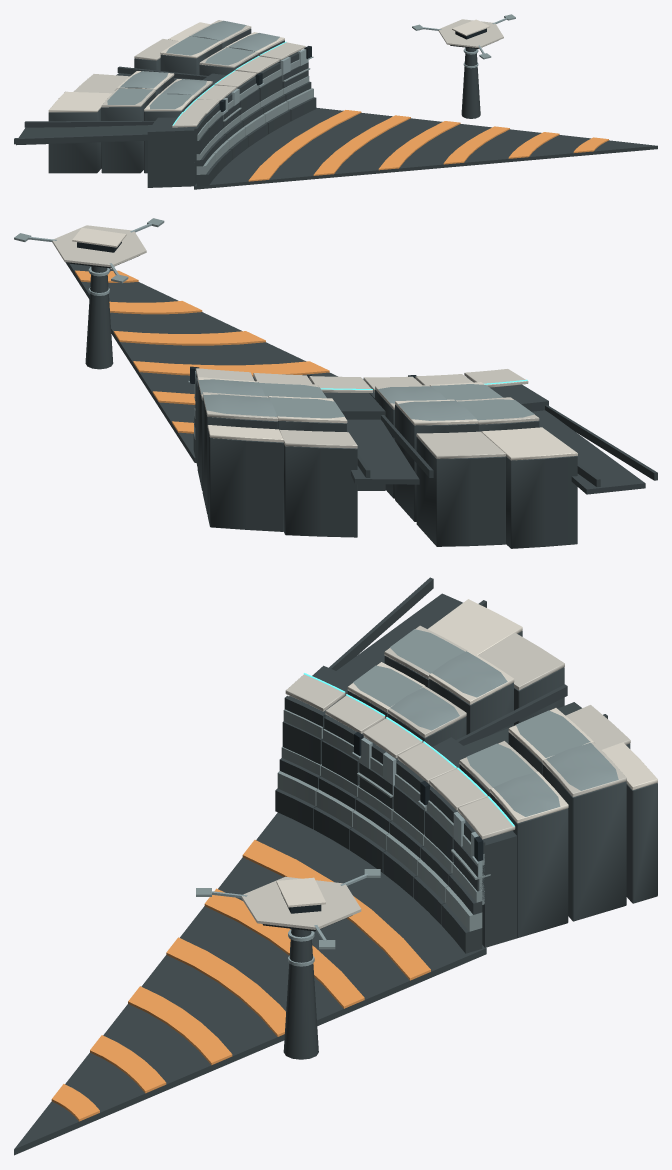
Rendered from Weather_Lung_Sector_04_Structure.glb.
The picture shows the model from 3 angles, top to bottom: view 1: azimuth 30°, elevation 25°; view 2: azimuth 150°, elevation 25°; view 3: azimuth 270°, elevation 25°; orthographic projection. The views are drawn at different scales.
Parts seen in each view (by area): view 1: Weather_Lung_Sector_04_Structure; view 2: Weather_Lung_Sector_04_Structure; view 3: Weather_Lung_Sector_04_Structure.
Part boxes in pixels (x1,y1,x2,y2): Weather_Lung_Sector_04_Structure: (14, 14, 657, 189); Weather_Lung_Sector_04_Structure: (14, 218, 657, 548); Weather_Lung_Sector_04_Structure: (14, 577, 657, 1155).
Size of the model in its own units: 11731 by 1921 by 6725.
